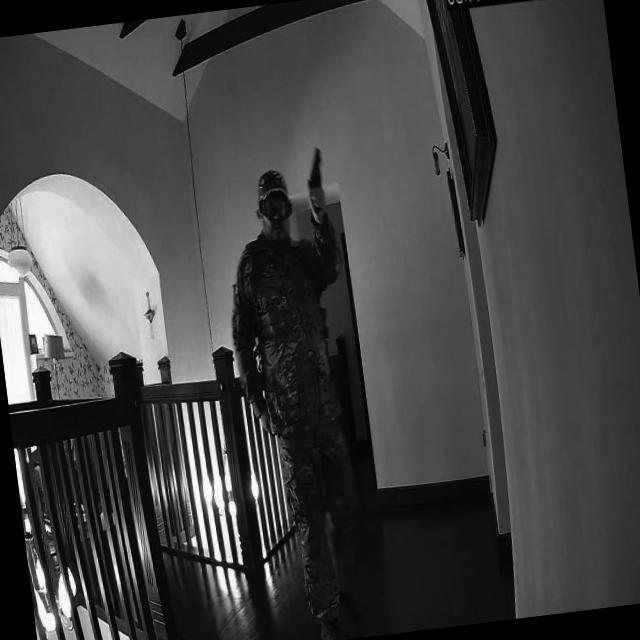gun: (304, 148, 326, 210)
person with a gun: (226, 164, 372, 640)
